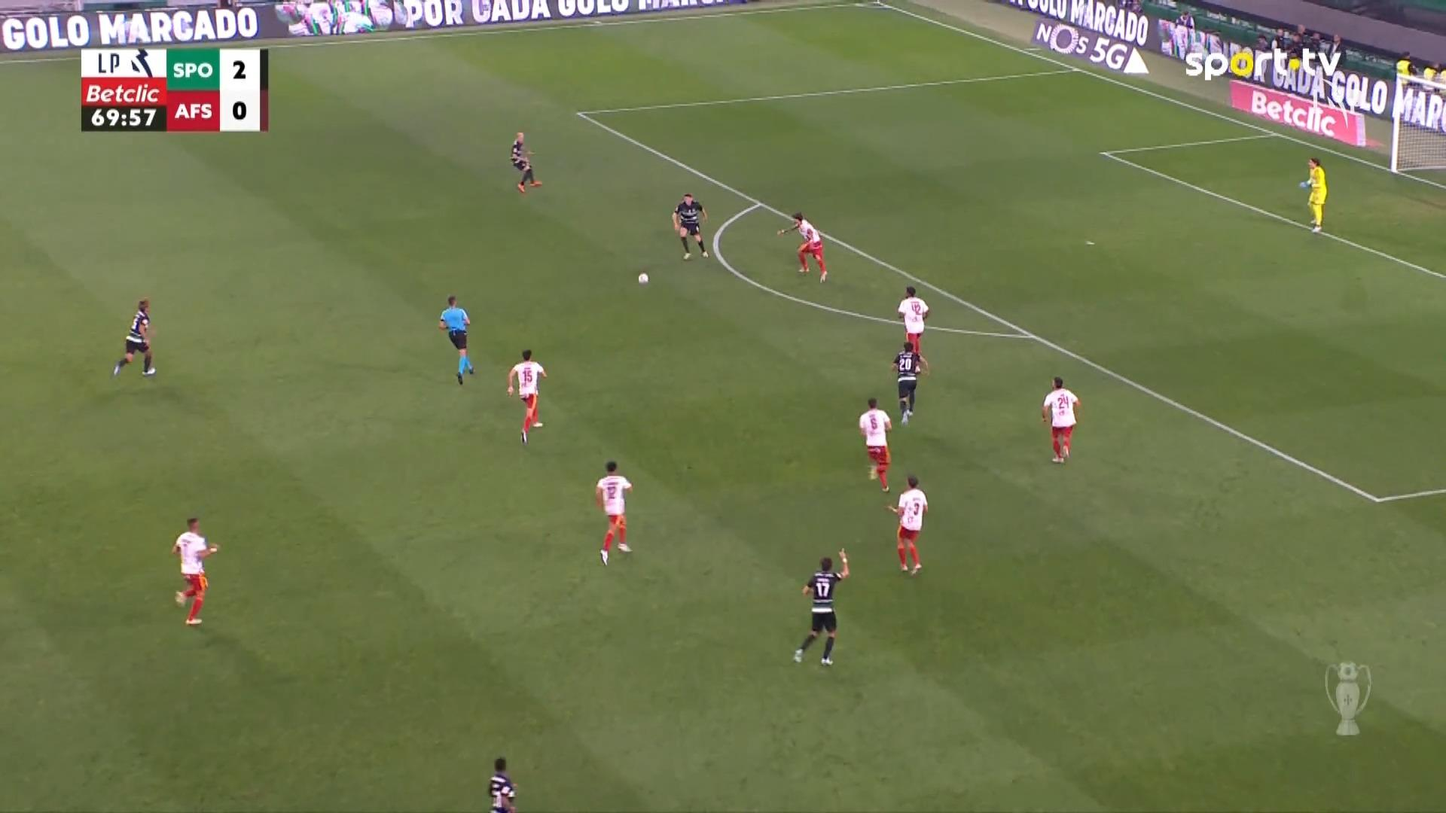ball: (637, 273, 648, 284), (896, 310, 904, 319)
goalkeeper: (1298, 156, 1327, 232)
player: (792, 548, 850, 666), (171, 516, 220, 626), (886, 474, 928, 575), (594, 459, 633, 565), (506, 349, 547, 446), (776, 212, 828, 283), (111, 297, 157, 377), (1040, 376, 1080, 463), (889, 340, 929, 425), (858, 397, 892, 492), (671, 192, 709, 260), (896, 285, 929, 358), (509, 130, 542, 193), (488, 756, 517, 811)
referee: (438, 294, 475, 385)
